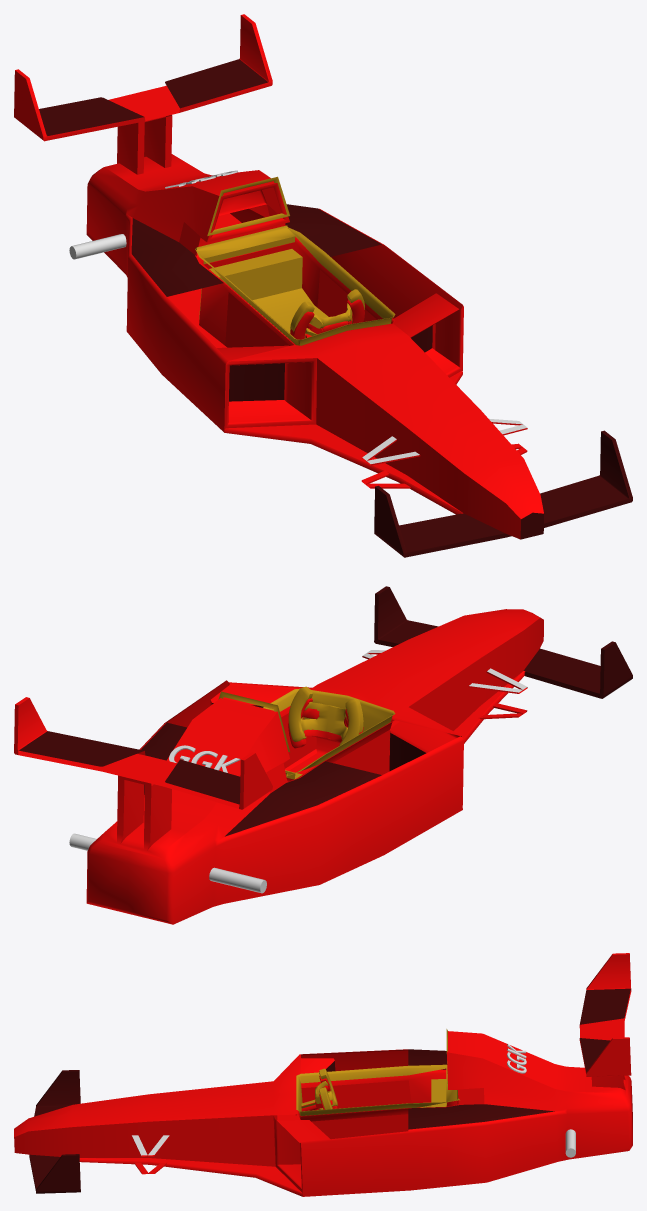
File: ggk.obj
3 views of the same model, one above another, from view 1: azimuth 30°, elevation 25°; view 2: azimuth 150°, elevation 25°; view 3: azimuth 270°, elevation 25° (orthographic). The views are drawn at different scales.
Visible parts, largest first — view 1: mesh01; view 2: mesh01; view 3: mesh01.
Boxes of the visible parts, left/top/right/bottom form: mesh01: left=14, top=14, right=632, bottom=557; mesh01: left=14, top=586, right=632, bottom=924; mesh01: left=14, top=953, right=632, bottom=1196.
Size of the model in its own units: 2 by 1.66 by 5.89.
